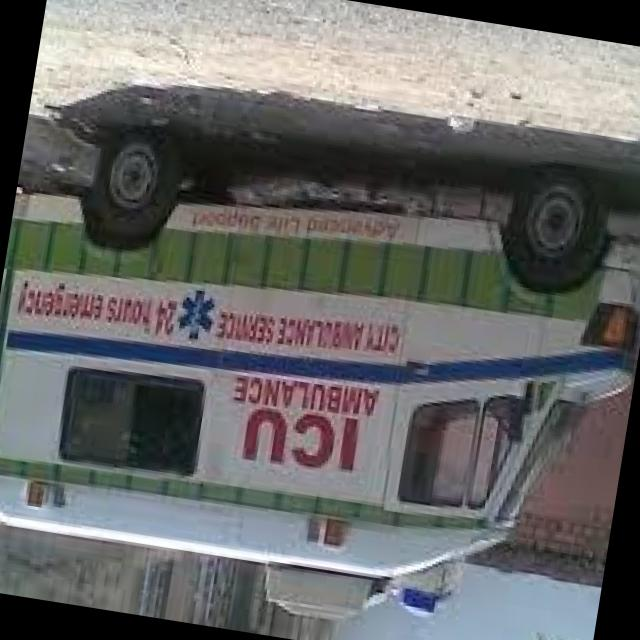ambulance: (0, 112, 640, 625)
